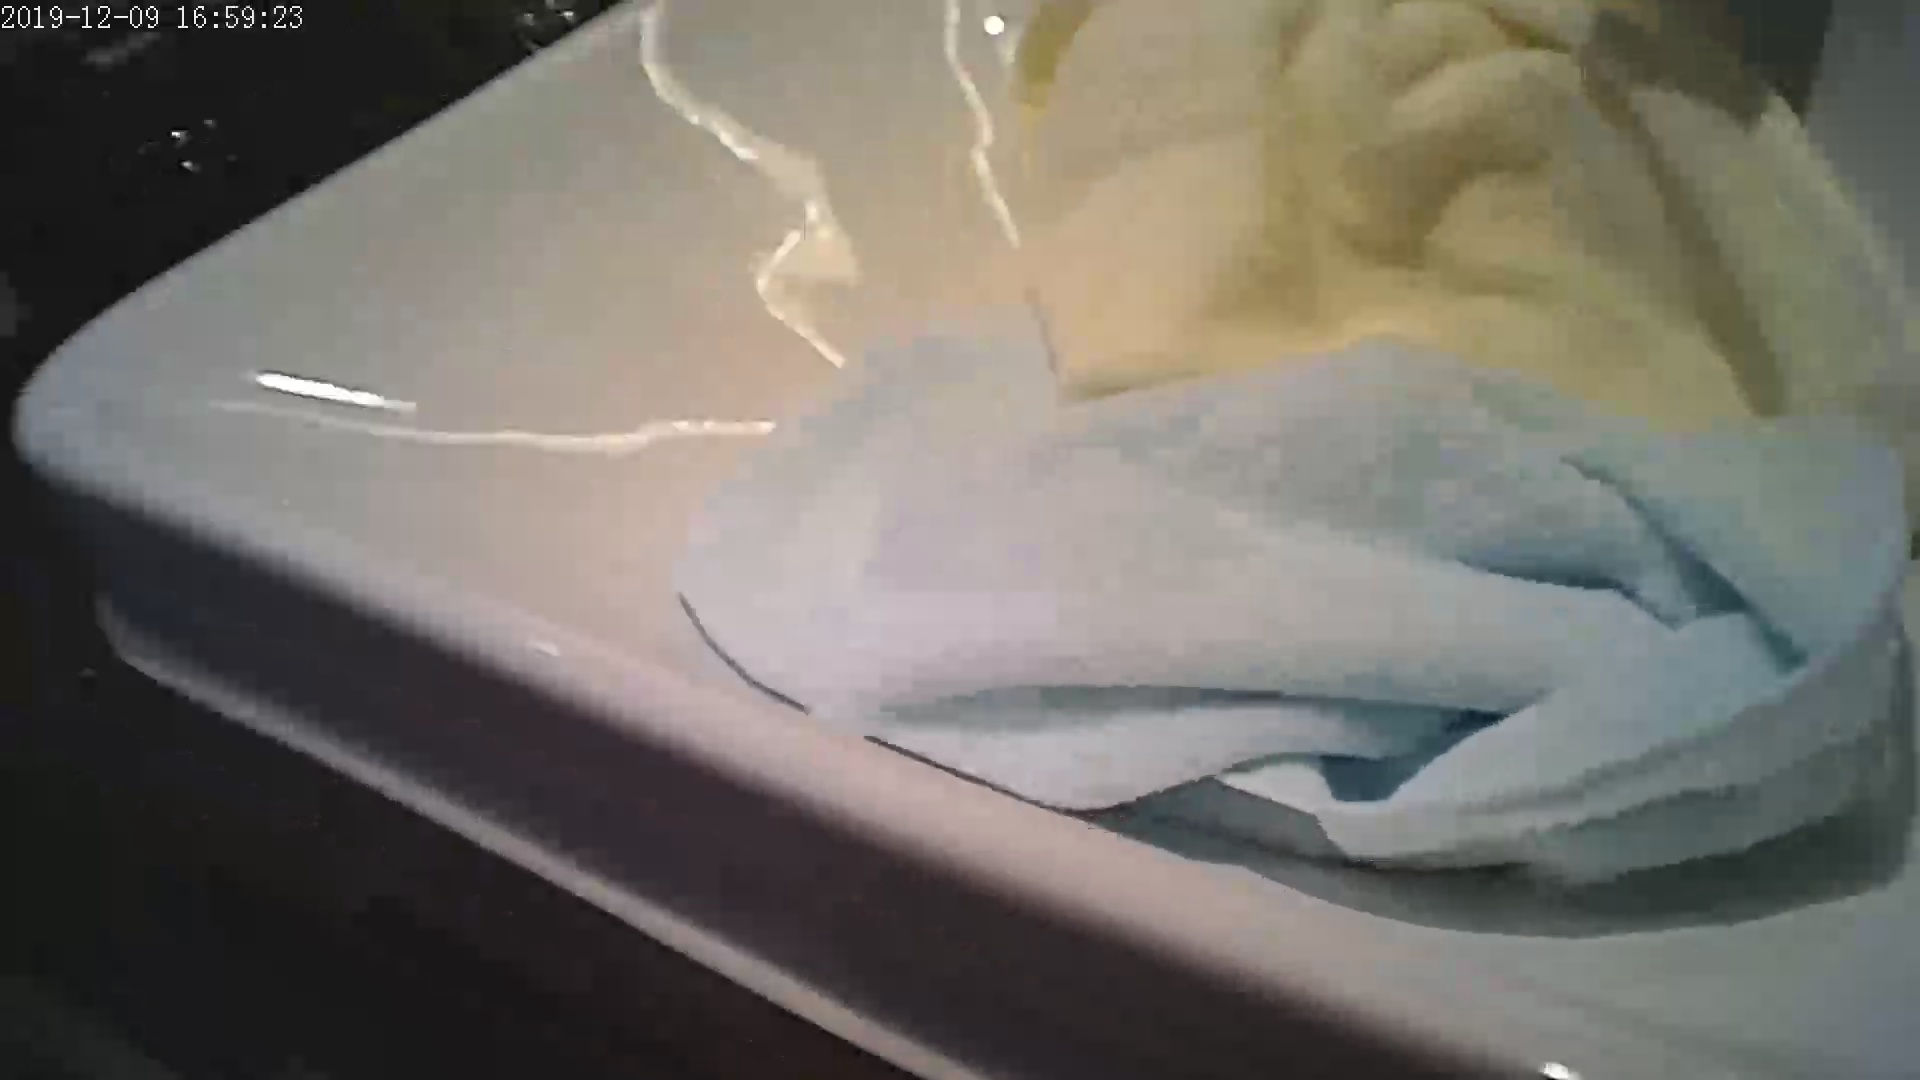bluecloth: (793, 392, 1863, 849)
sink: (40, 44, 1859, 1054)
yellowcloth: (1018, 47, 1763, 410)
